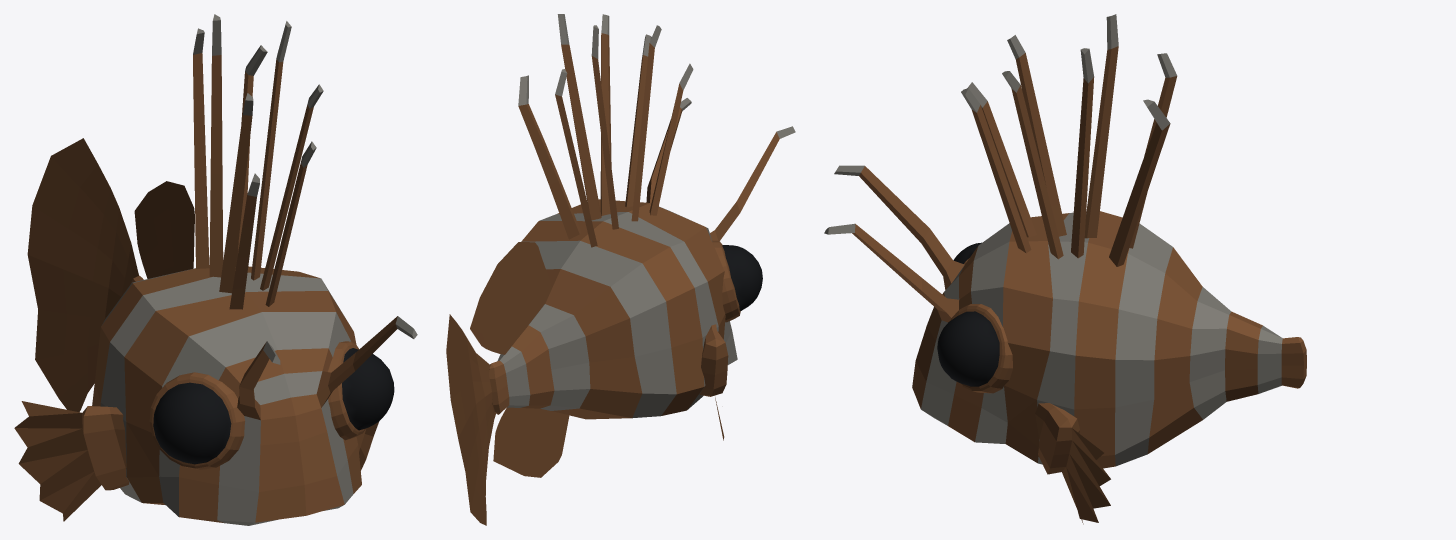
File: cc0-lionfish-lod0.glb
3 renders of one model, left to right at view 1: azimuth 30°, elevation 25°; view 2: azimuth 150°, elevation 25°; view 3: azimuth 270°, elevation 25°, orthographic. The views are drawn at different scales.
Visible parts, largest first — view 1: part_0; view 2: part_0; view 3: part_0.
Boxes of the visible parts, x1,y1,x2,y2 form: part_0: (14,14,417,525); part_0: (446,14,795,525); part_0: (824,14,1306,524).
Size of the model in its own units: 3.81 by 5.22 by 6.32.
